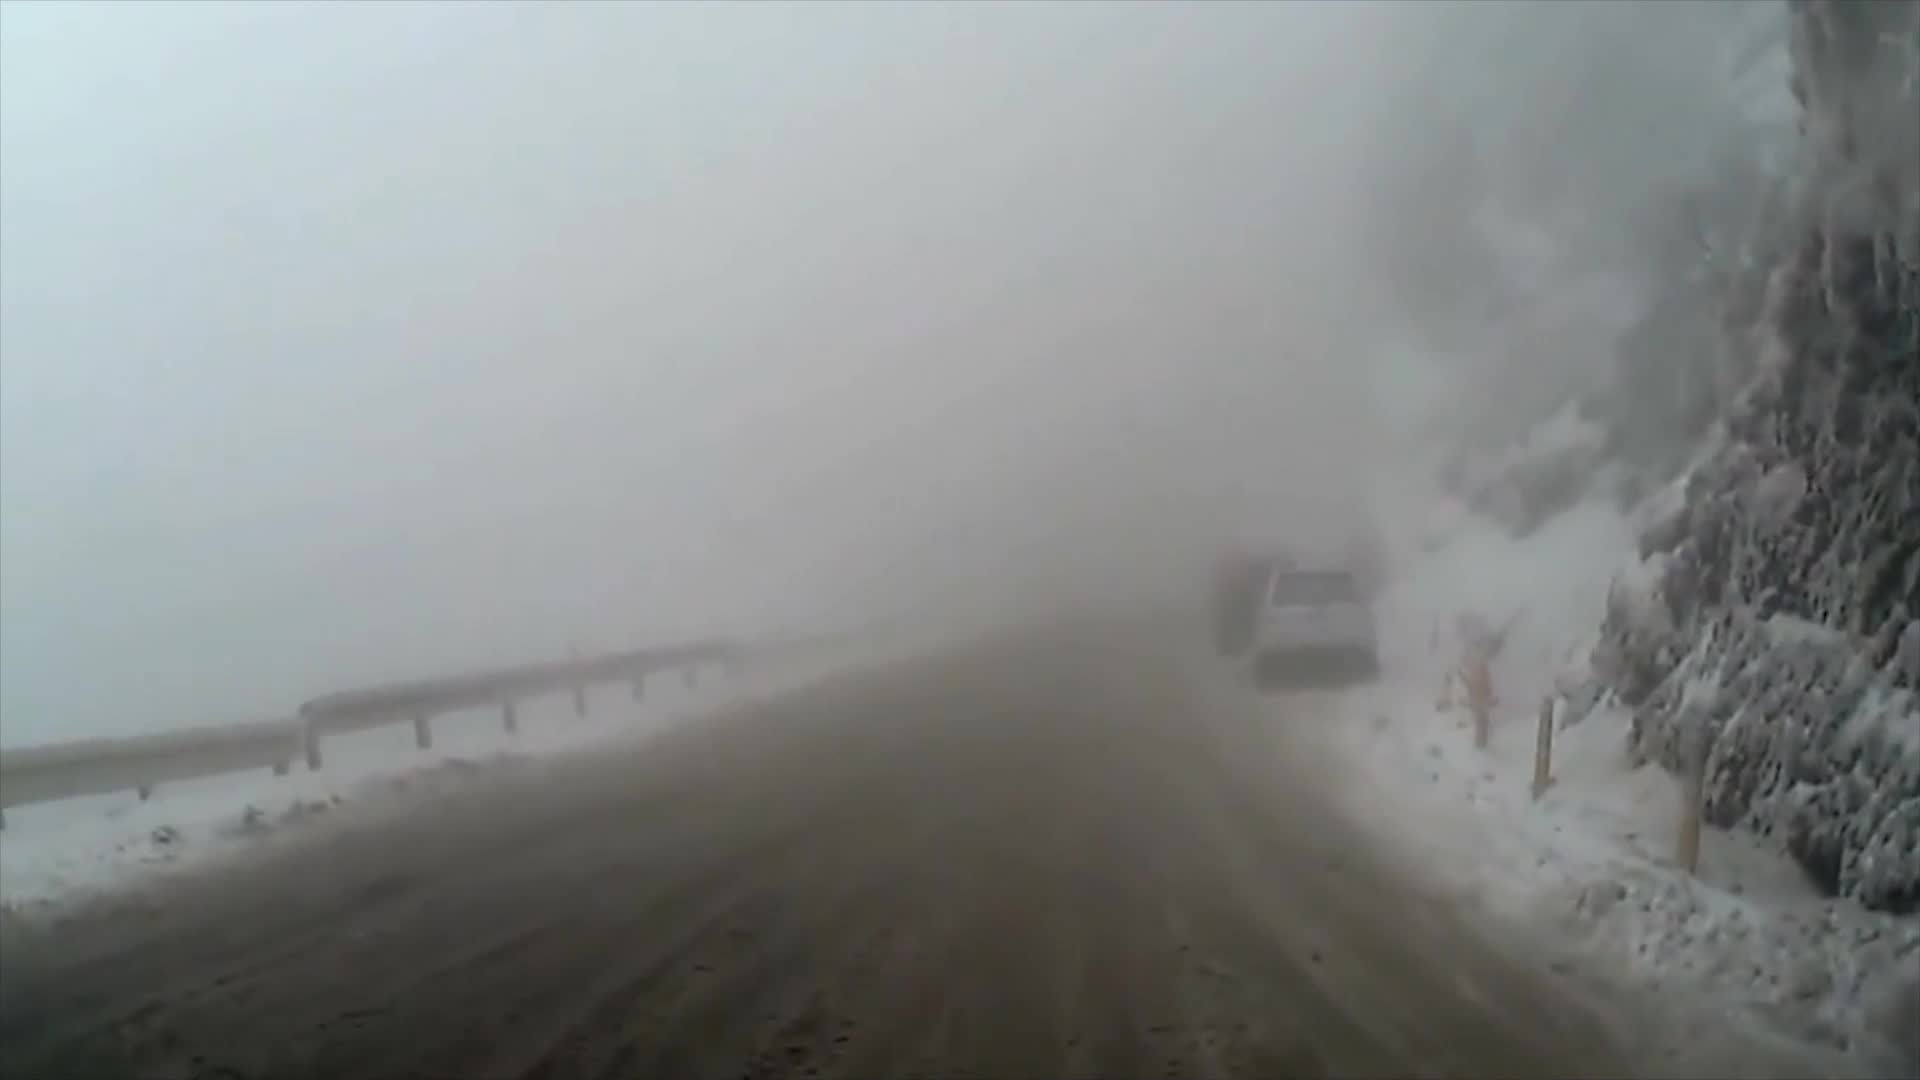vehicle: (1251, 560, 1375, 684), (1209, 545, 1321, 647)
